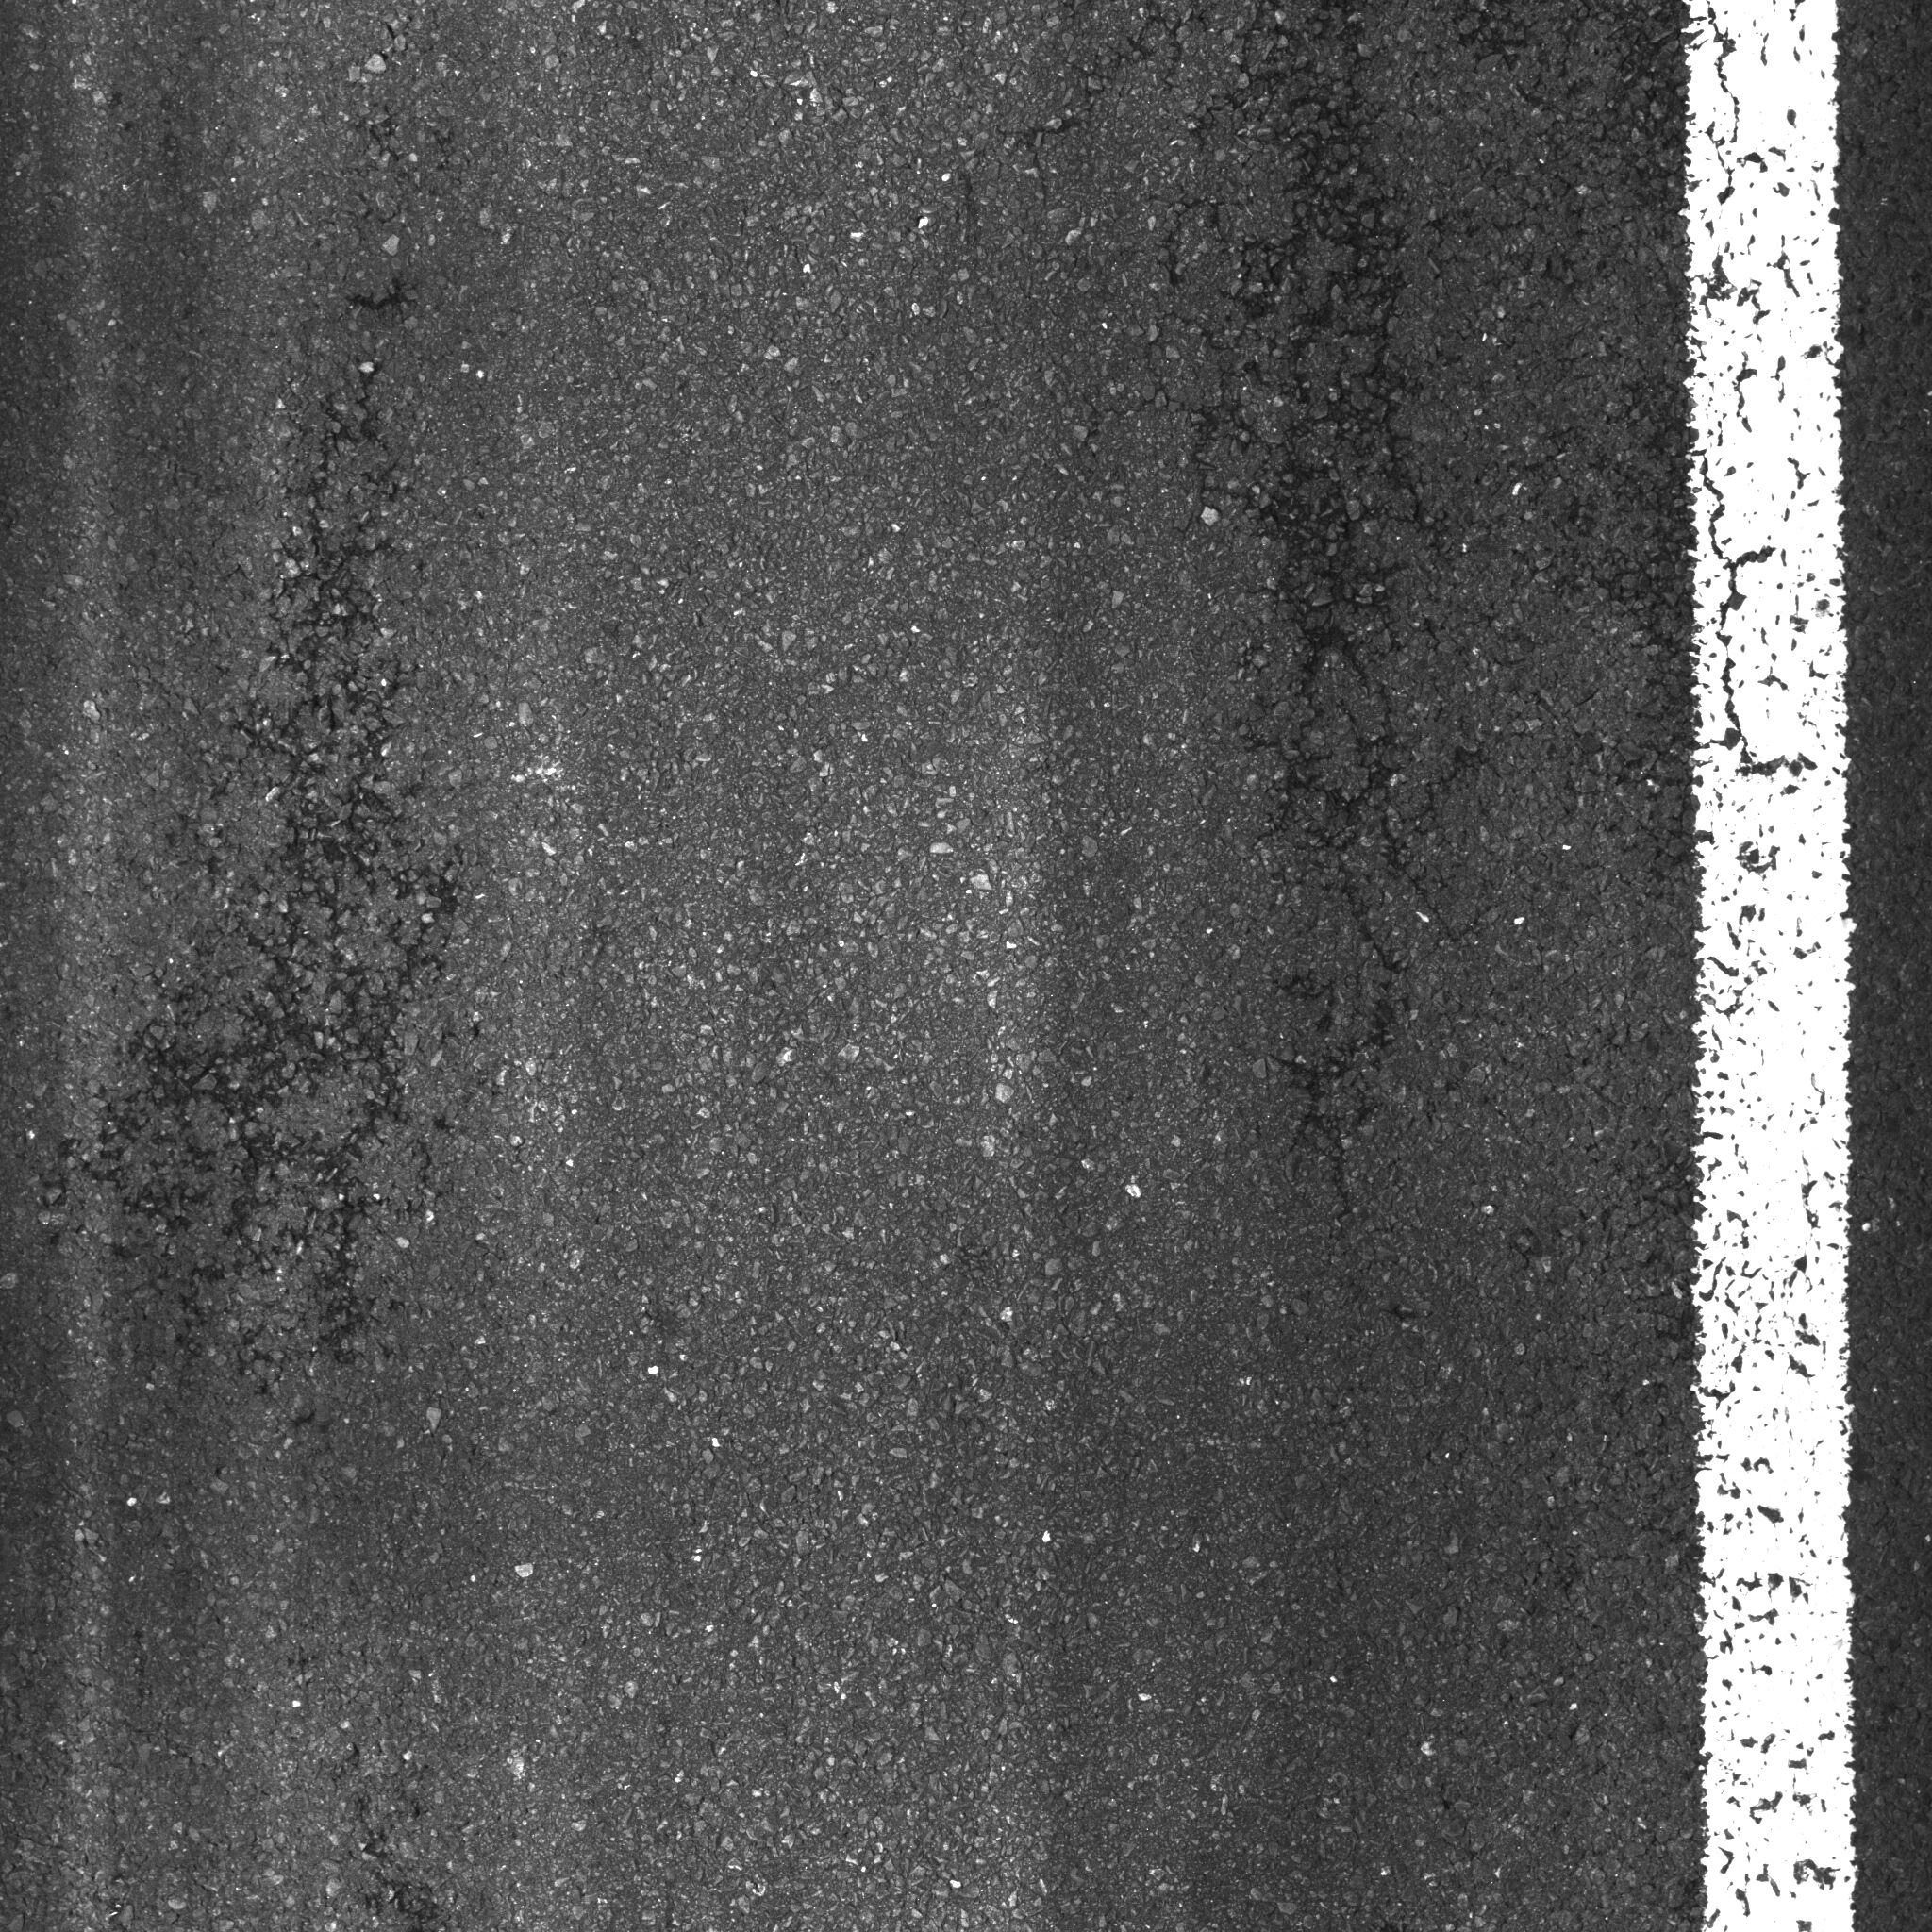alligator: (989, 5, 1667, 1247), (60, 142, 561, 1449)
